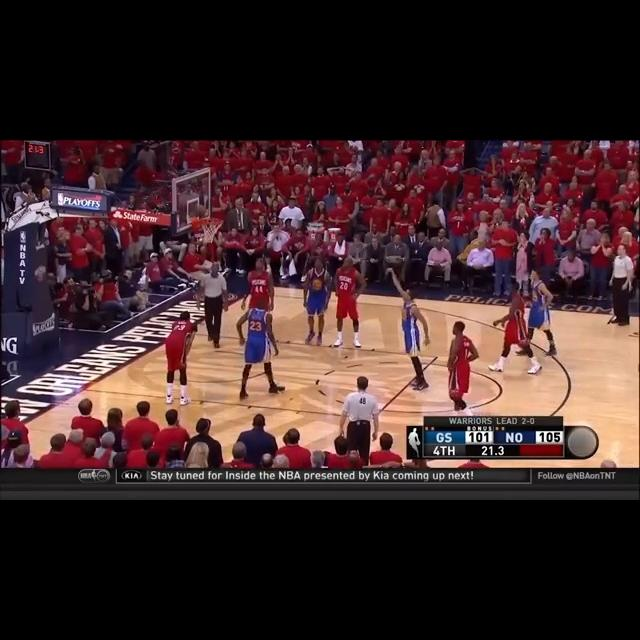hoop: (196, 213, 223, 246)
